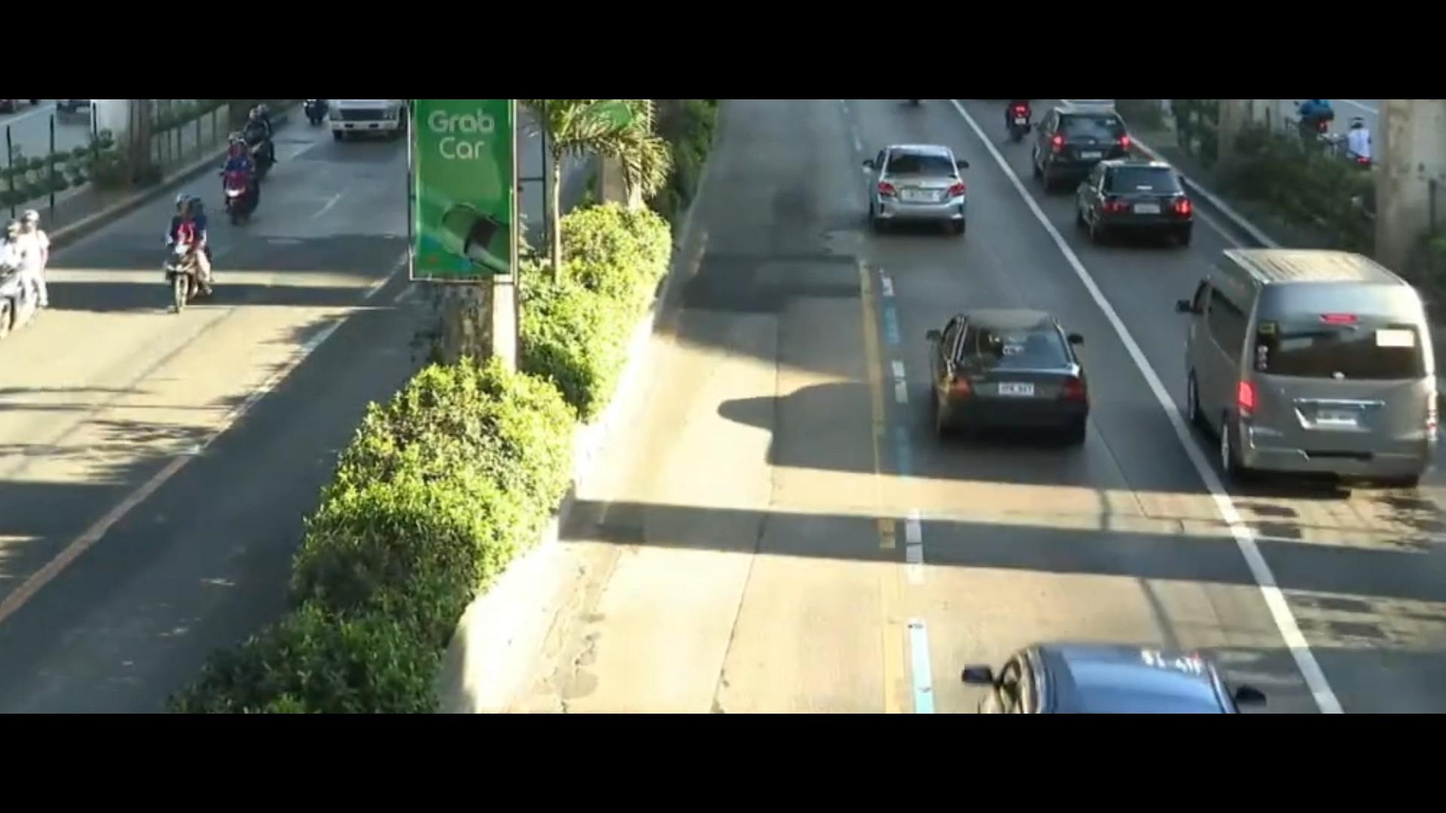Motorcycle: (0, 209, 79, 337), (146, 192, 213, 324), (215, 128, 272, 240), (236, 100, 300, 170), (983, 98, 1040, 149)
SUV: (1028, 94, 1134, 203)
Sedan: (905, 283, 1104, 462), (1069, 148, 1205, 250), (869, 135, 971, 240)
Van: (1156, 213, 1446, 520)
